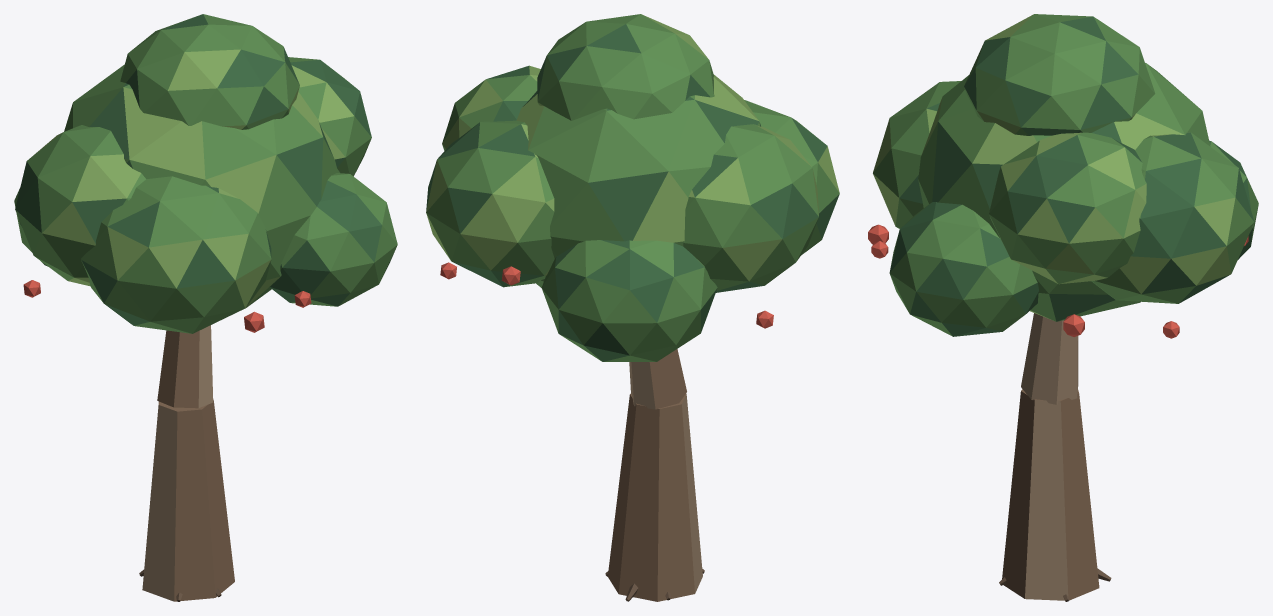
File: tree_apple.glb
3 views of the same model, side by side, from view 1: azimuth 30°, elevation 25°; view 2: azimuth 150°, elevation 25°; view 3: azimuth 270°, elevation 25° (orthographic). The views are drawn at different scales.
Parts seen in each view (by area): view 1: tree_apple; view 2: tree_apple; view 3: tree_apple.
Part boxes in pixels (box(x1,y1,x2,y2)): tree_apple: box(14, 14, 397, 601); tree_apple: box(426, 14, 839, 601); tree_apple: box(868, 14, 1258, 601).
Size of the model in its own units: 3.41 by 5.25 by 3.25.
